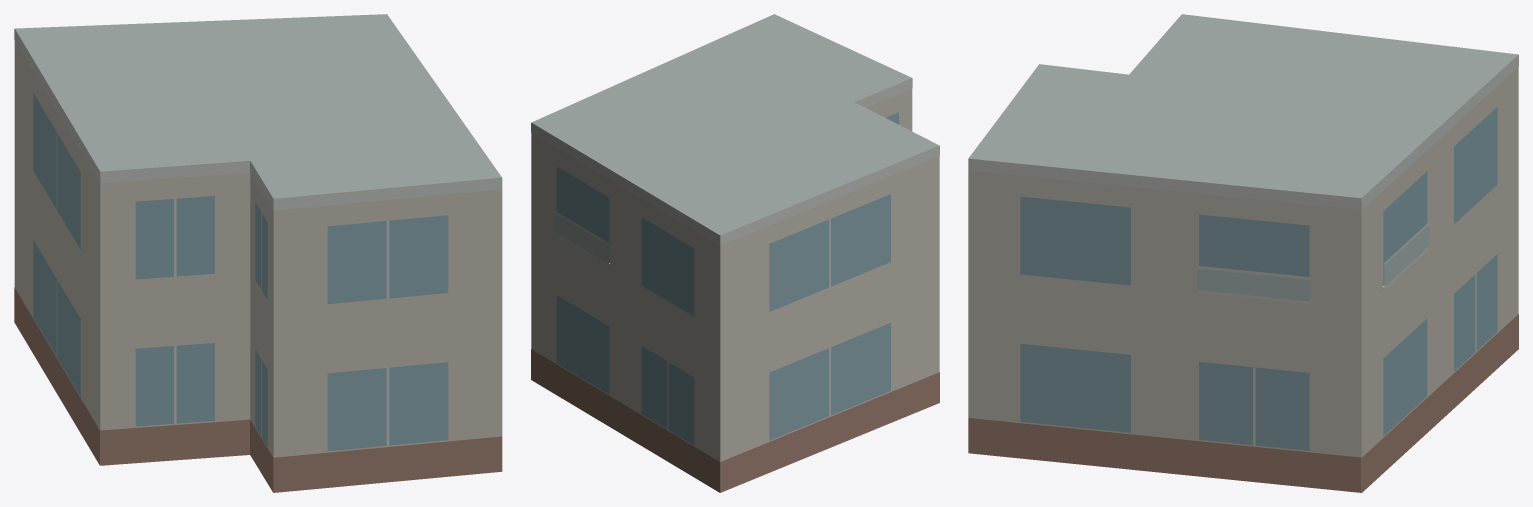
The model's file is survey-upis-32804540.glb.
3 views of the same model, side by side, from view 1: azimuth 30°, elevation 25°; view 2: azimuth 150°, elevation 25°; view 3: azimuth 270°, elevation 25° (orthographic). The views are drawn at different scales.
Parts seen in each view (by area): view 1: survey-upis-32804540.tmp; view 2: survey-upis-32804540.tmp; view 3: survey-upis-32804540.tmp.
Part boxes in pixels (box(x1,y1,x2,y2)): survey-upis-32804540.tmp: box(14, 14, 502, 492); survey-upis-32804540.tmp: box(531, 14, 939, 492); survey-upis-32804540.tmp: box(968, 14, 1518, 492).
Size of the model in its own units: 8.19 by 6.1 by 10.34.
